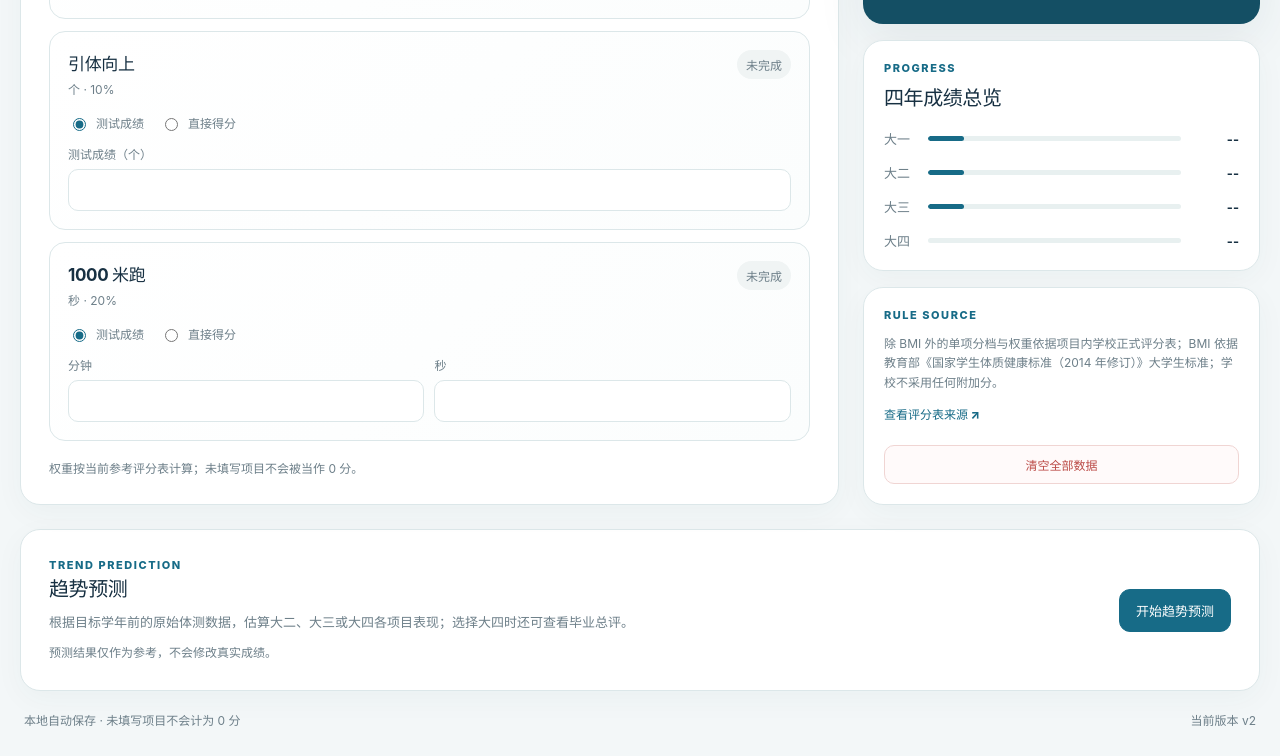
fitness calculator interface › recomputes the derived trend prediction when a historical raw value changes
(page scrolled)
Step 1. Click the button "开始趋势预测" → point(1175, 610), box x1=1119 y1=589 x2=1231 y2=632
(page scrolled)
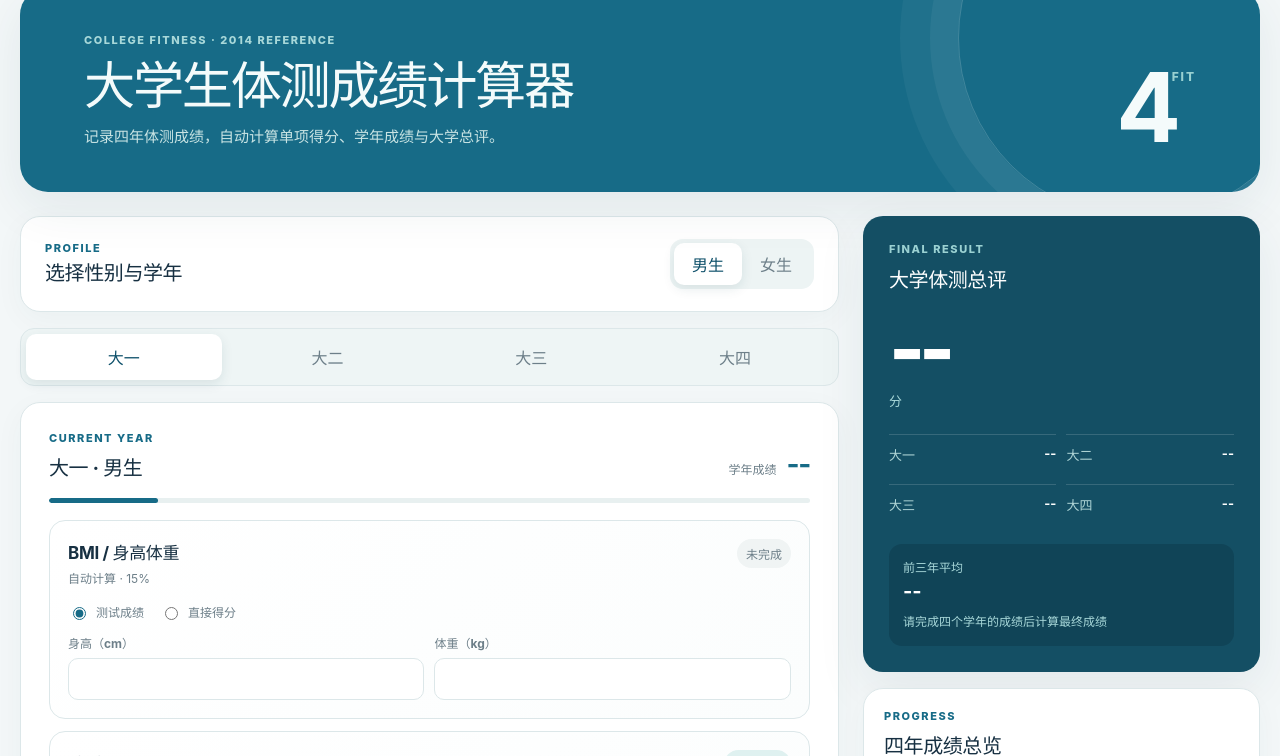
Step 2. Click the tab "大一" → point(124, 357), box x1=26 y1=334 x2=222 y2=380
(page scrolled)
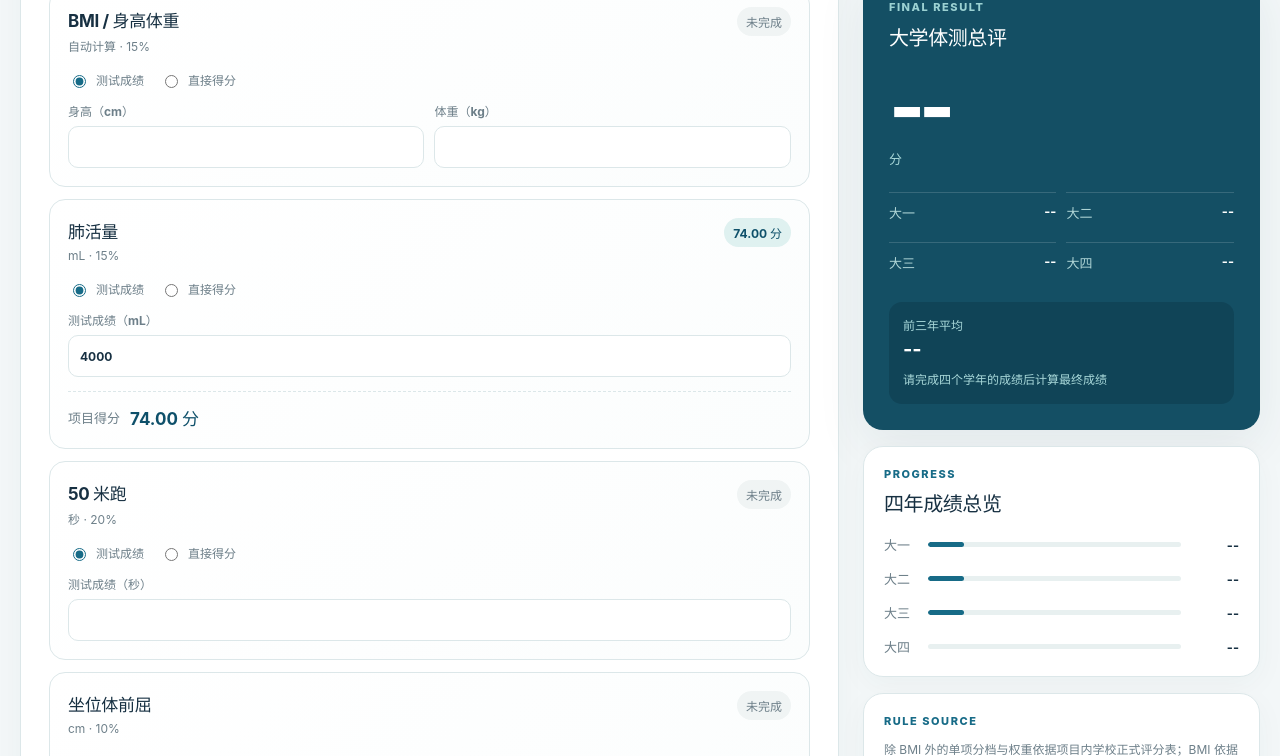
Step 3. Replace the text in the number field labelled "测试成绩" with "3900" → point(429, 356), box x1=68 y1=335 x2=791 y2=377
(page scrolled)
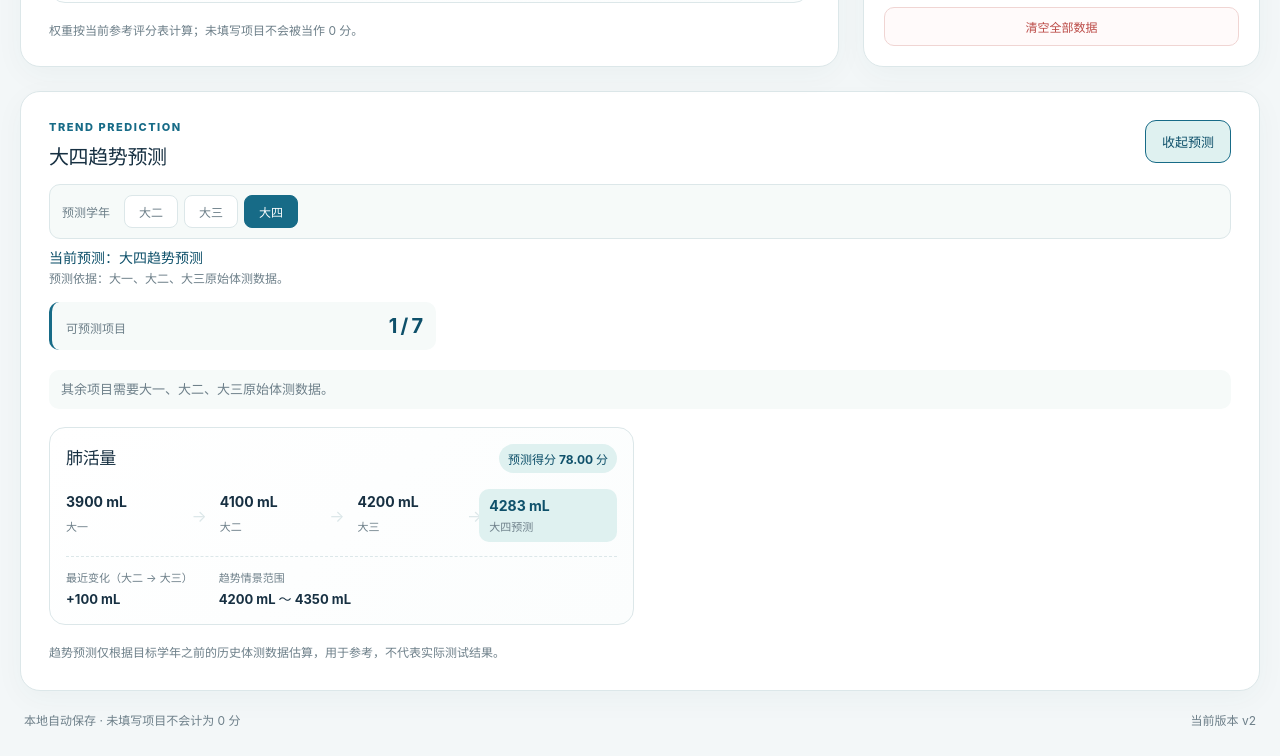
Expected: the text "4283 mL" is shown, x1=489 y1=497 x2=550 y2=514
